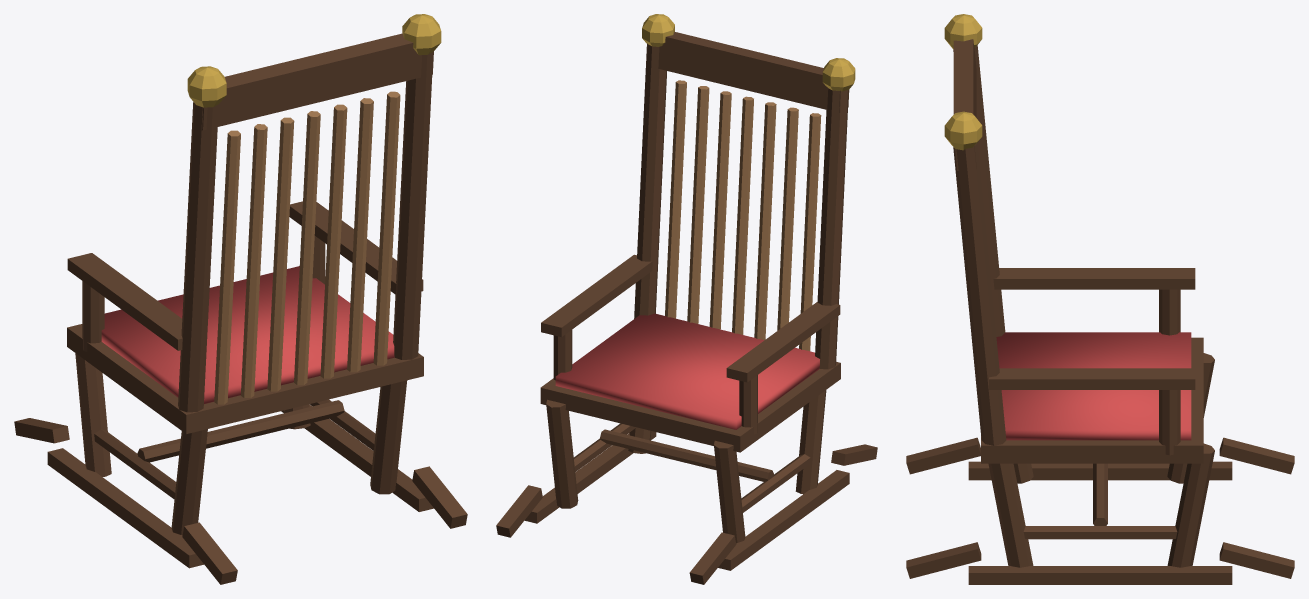
Rendered from mecedora_gigante.glb.
3 renders of one model, left to right at view 1: azimuth 30°, elevation 25°; view 2: azimuth 150°, elevation 25°; view 3: azimuth 270°, elevation 25°, orthographic. The views are drawn at different scales.
Parts seen in each view (by area): view 1: mecedora_gigante; view 2: mecedora_gigante; view 3: mecedora_gigante.
Boxes of the visible parts, x1,y1,x2,y2 form: mecedora_gigante: (14, 14, 467, 584); mecedora_gigante: (496, 14, 877, 584); mecedora_gigante: (906, 14, 1294, 584).
Bounding box in the file's own units: 1.63 × 3.11 × 2.35.
